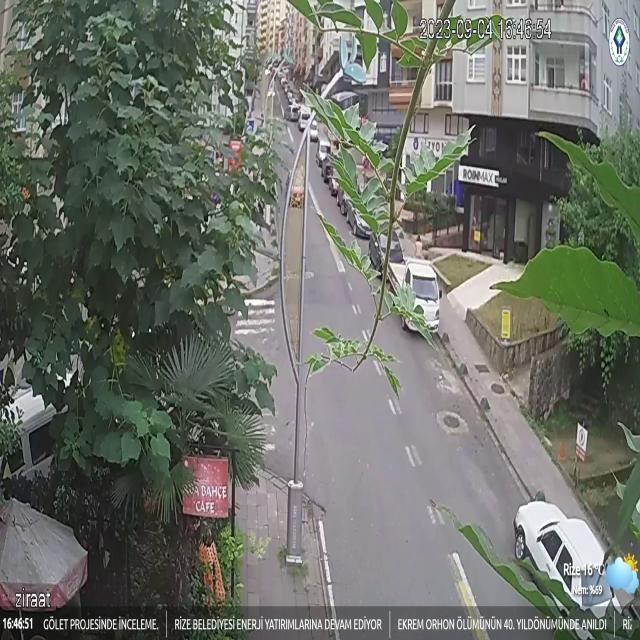Car: (514, 495, 624, 637), (367, 227, 405, 282), (316, 136, 332, 169)
Truck: (383, 256, 443, 337)
